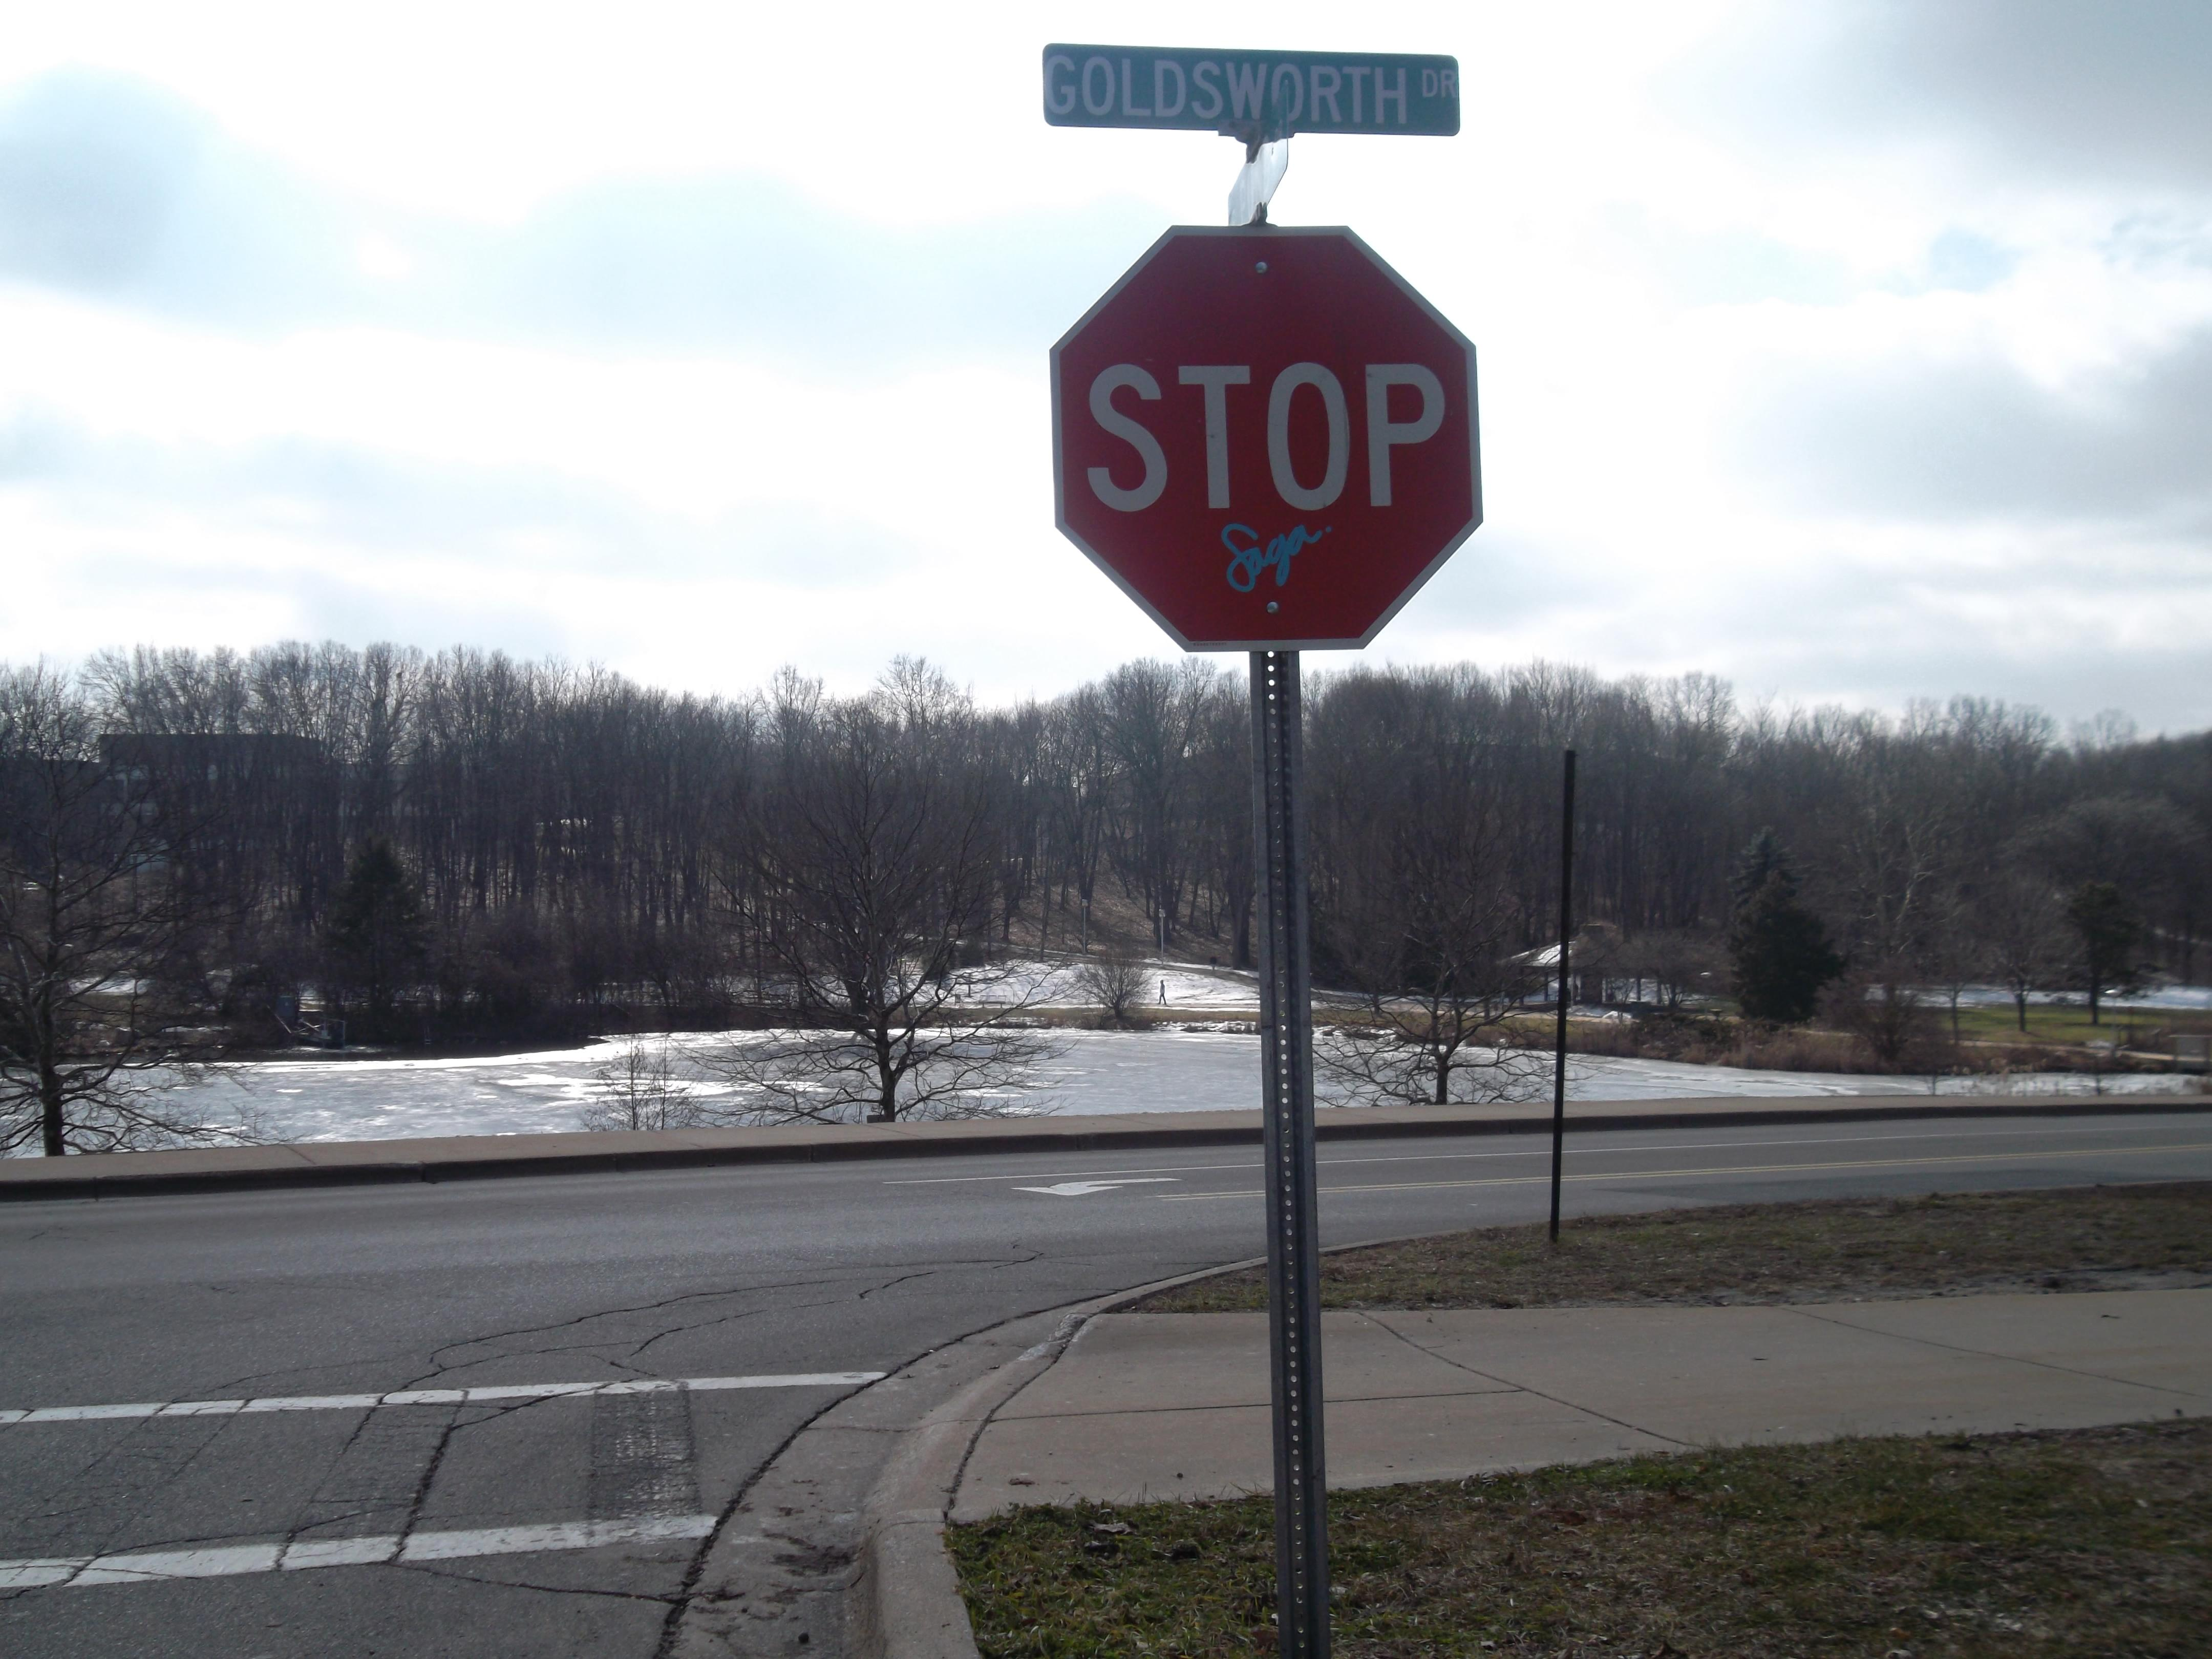stop: (1047, 223, 1482, 655)
